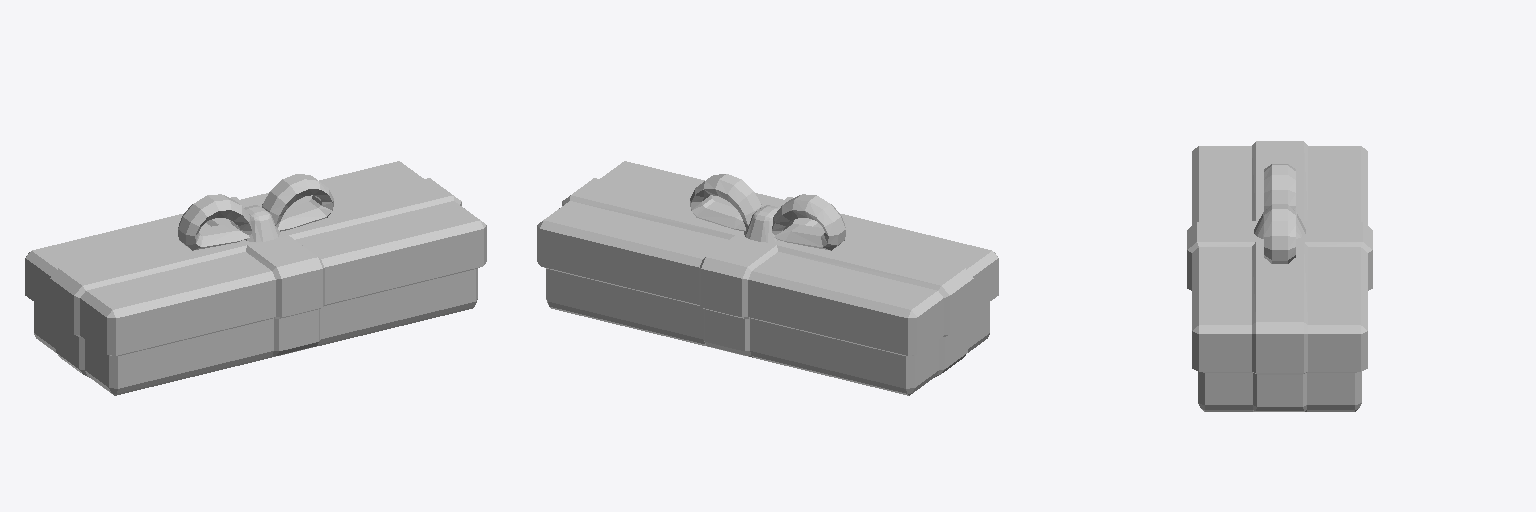
The model's file is present_E_green.obj.
The picture shows the model from 3 angles: view 1: azimuth 30°, elevation 25°; view 2: azimuth 150°, elevation 25°; view 3: azimuth 270°, elevation 25°; orthographic projection.
Parts seen in each view (by area): view 1: present_E_green; view 2: present_E_green; view 3: present_E_green.
Part boxes in pixels (x1,y1,x2,y2): present_E_green: (25, 161, 486, 395); present_E_green: (537, 161, 998, 395); present_E_green: (1187, 141, 1372, 411).
Size of the model in its own units: 1.36 by 0.4617 by 0.5638.